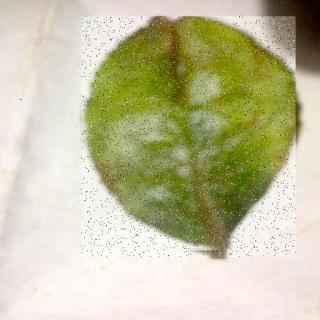Red Leaf Spot: (82, 17, 297, 258)
